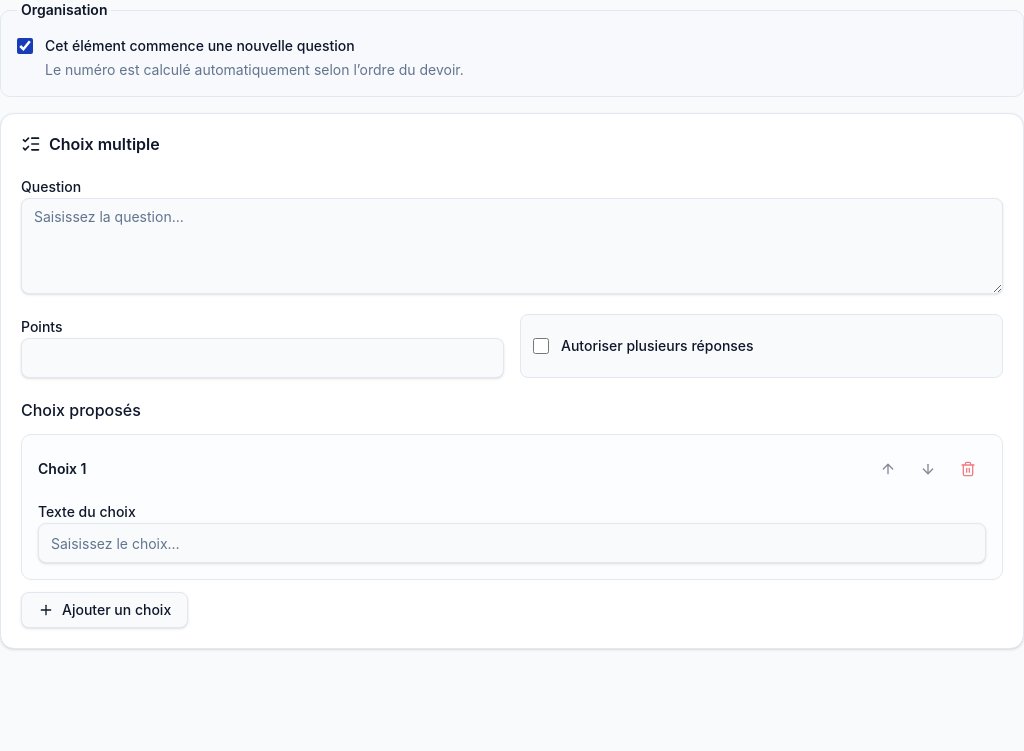
it: Core block editors › manages MCQ options and multiple-answer presentation without an answer key
The image size is (1024, 751).
expect the button named "Supprimer Choix 1" is disabled: met, box [950, 451, 986, 487]
In the text box labelled "Question": (512, 246) [21, 198, 1003, 294], type "Choisissez"
Click the button "Ajouter un choix": (105, 610) [21, 592, 188, 628]
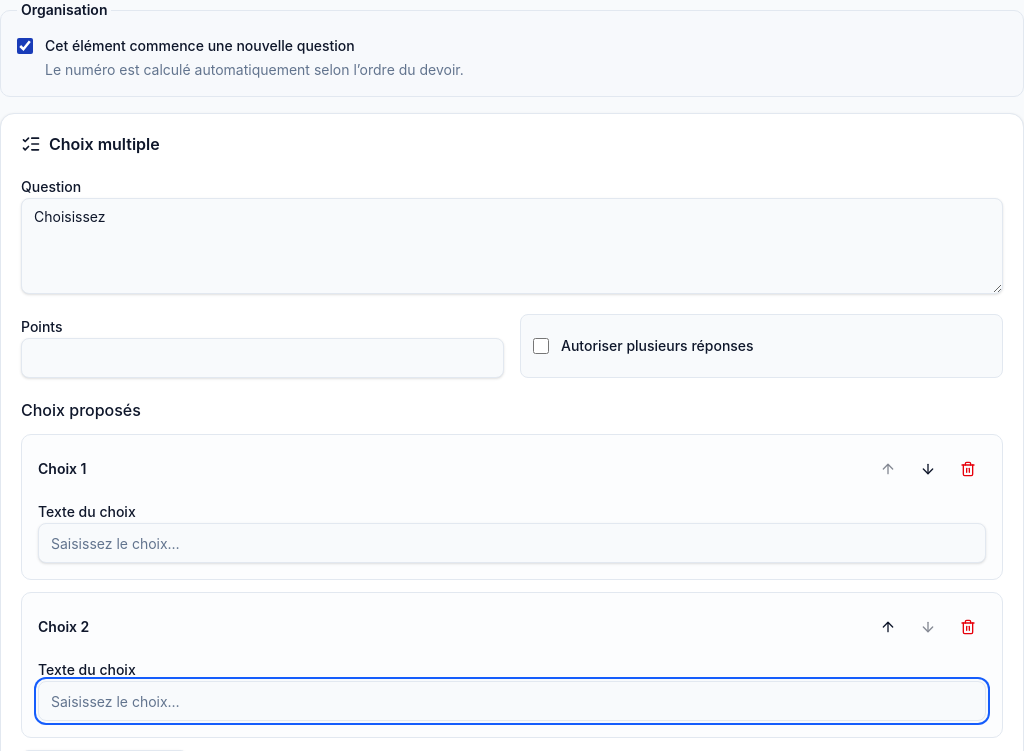
In the field labelled "Texte du choix" below "Choix 1": (512, 543) [38, 523, 986, 563], type "Rabat"
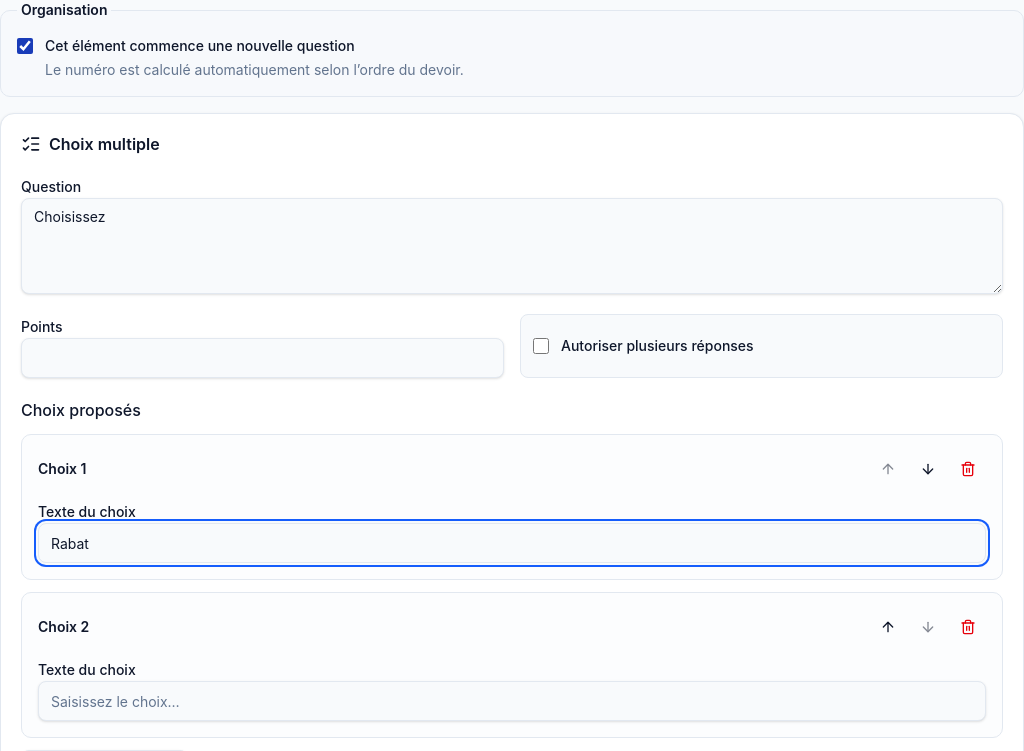
In the field labelled "Texte du choix" below "Choix 2": (512, 701) [38, 681, 986, 721], type "الرباط"
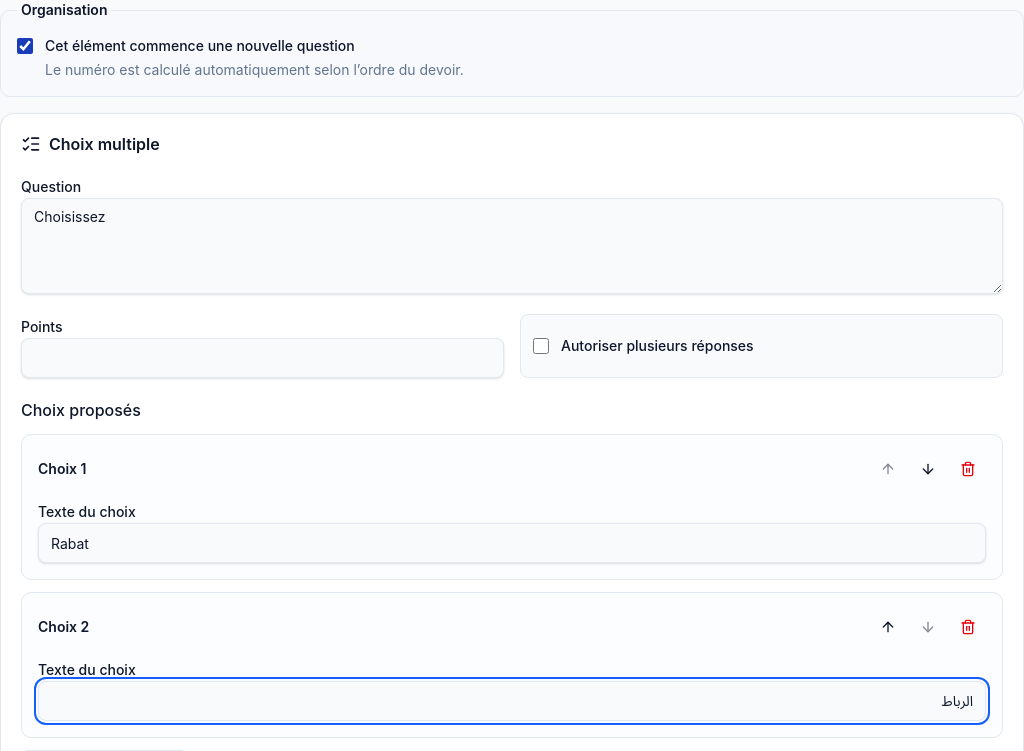
Click the checkbox labelled "Autoriser plusieurs réponses": (541, 346) [533, 338, 549, 354]
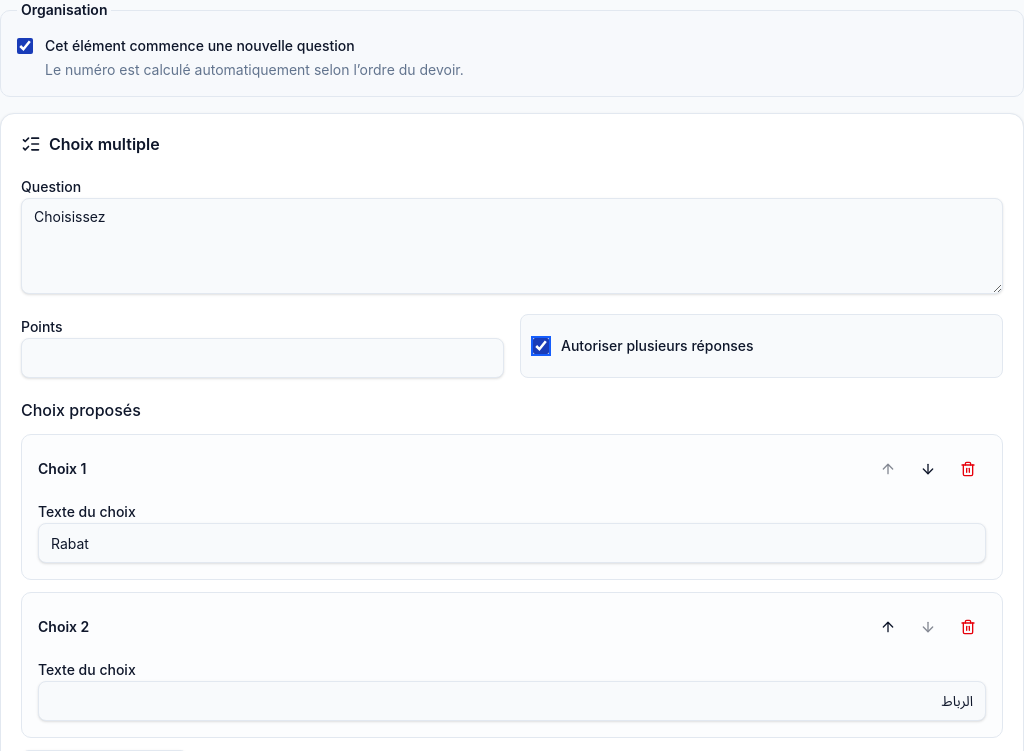
Click the button named "Monter Choix 2": (888, 627) [870, 609, 906, 645]
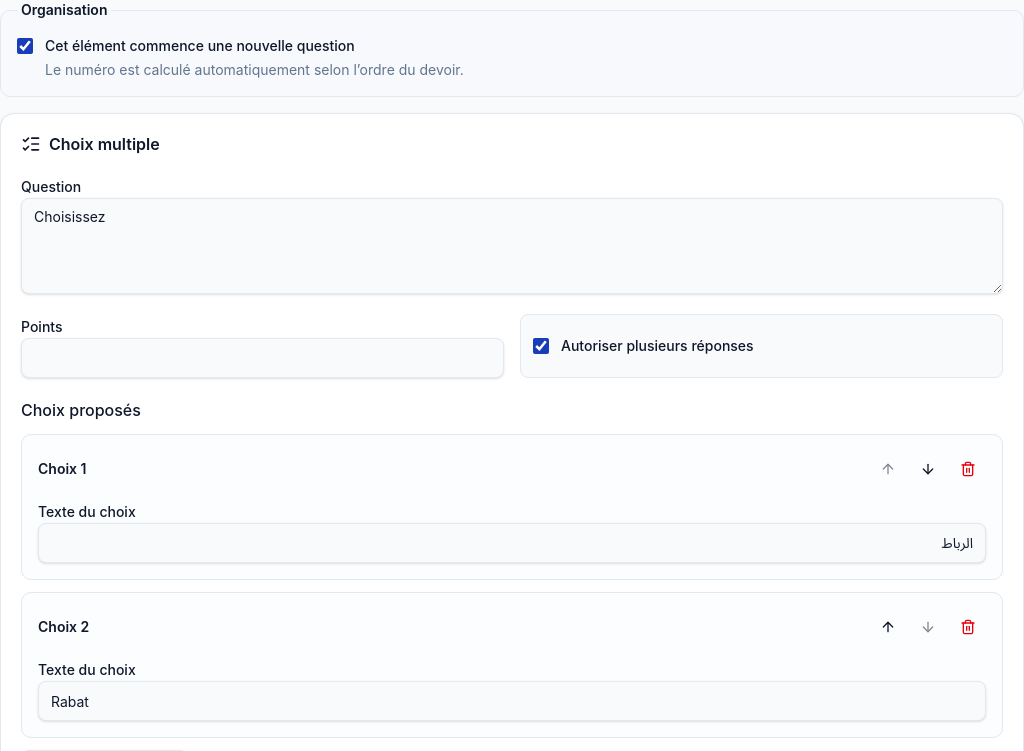
Click the button named "Supprimer Choix 2": (968, 627) [950, 609, 986, 645]
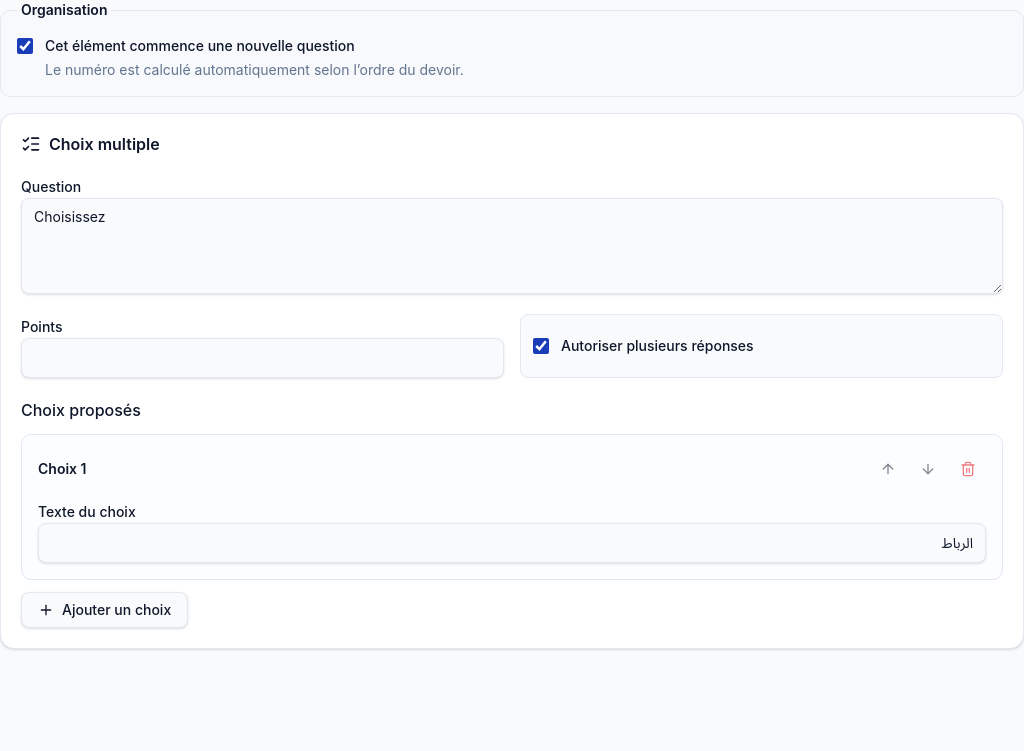
expect the button named "Supprimer Choix 1" is disabled: met, box [950, 451, 986, 487]
